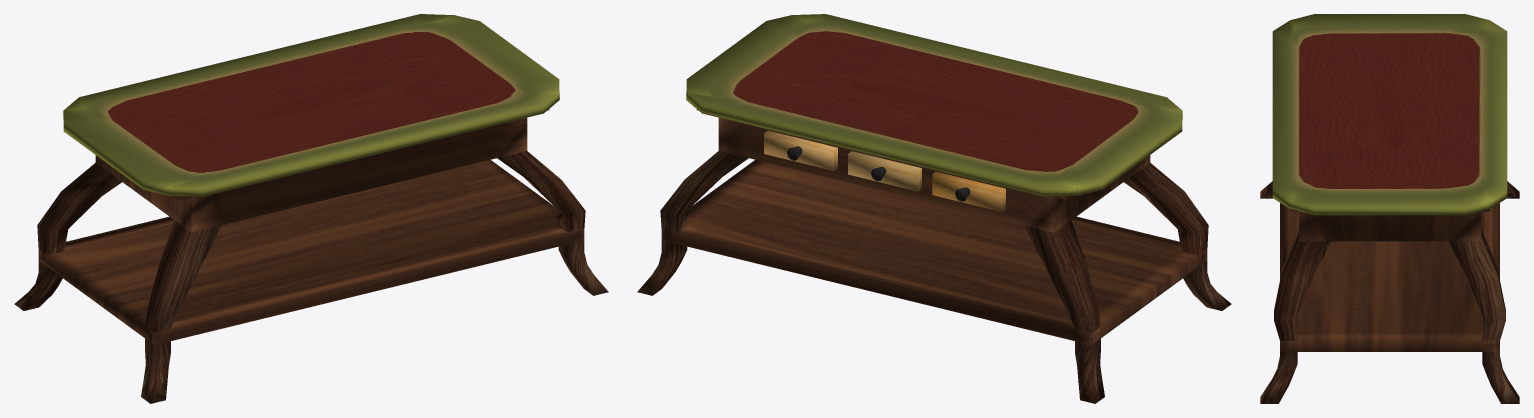
The model's file is Table.fbx.
3 views of the same model, side by side, from view 1: azimuth 30°, elevation 25°; view 2: azimuth 150°, elevation 25°; view 3: azimuth 270°, elevation 25° (orthographic). The views are drawn at different scales.
Visible parts, largest first — view 1: Table; view 2: Table; view 3: Table.
Boxes of the visible parts, <box> form: Table: <box>14,14,608,403</box>; Table: <box>637,14,1231,403</box>; Table: <box>1260,14,1519,403</box>.
Bounding box in the file's own units: 457 × 188 × 236.
